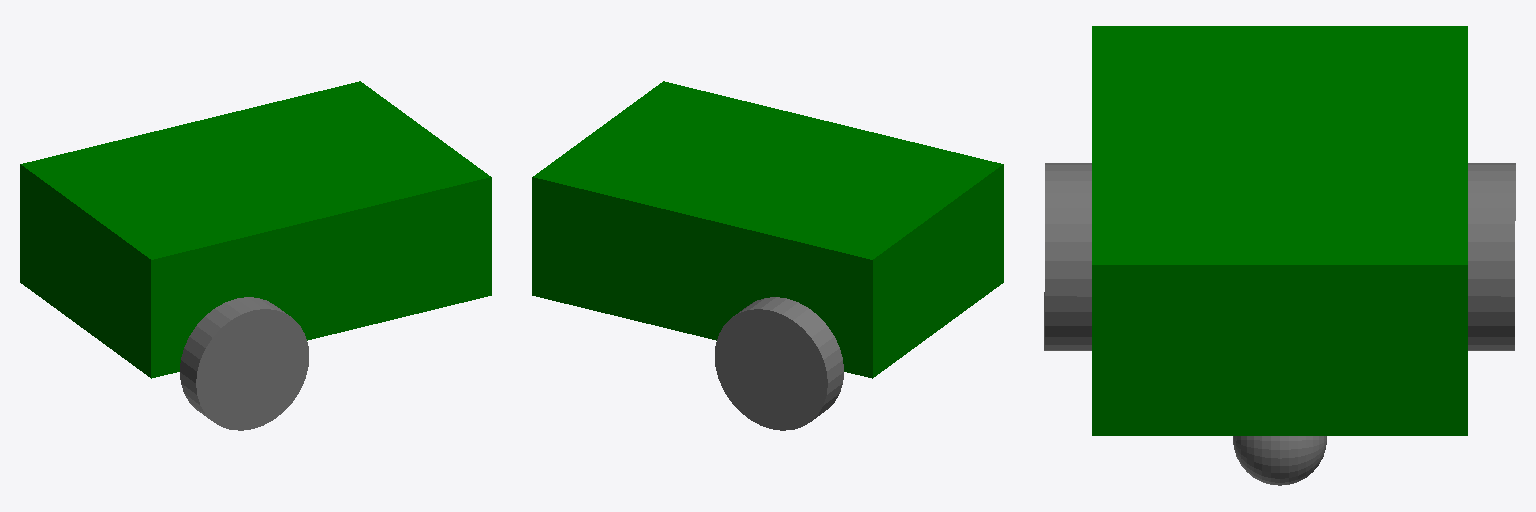
The robot description file, URDF, robot "my_robot":
<?xml version ="1.0"?> 
<robot name="my_robot">

    <material name="green">
        <color rgba="0 0.5 0 1"/>
    </material>

    <material name="grey">
        <color rgba="0.5 0.5 0.5 1" />
    </material>

    <link name ="base_link">
        <visual>
            <geometry>
                <box size="0.6 0.4 0.2"/>
            </geometry>
            <origin xyz="0 0 0.1" rpy="0 0 0"/>
            <material name="green"/>
        </visual>
    </link>

    <link name="right_wheel_link">
        <visual>
            <geometry>
                <cylinder radius="0.1" length="0.05"/>
            </geometry>
            <origin xyz="0 0 0" rpy="1.57 0 0"/>
            <material name="grey"/>
        </visual>
    </link>

    <joint name="base_right_wheel_joint" type="continuous">
        <parent link="base_link"/>
        <child link="right_wheel_link"/>
        <origin xyz="-0.15 -0.225 0" rpy="0 0 0"/>
        <axis xyz="0 1 0"/>
    </joint>

    <link name="left_wheel_link">
        <visual>
            <geometry>
                <cylinder radius="0.1" length="0.05"/>
            </geometry>
            <origin xyz="0 0 0" rpy="1.57 0 0"/>
            <material name="grey"/>
        </visual>
    </link>

    <joint name="base_left_wheel_joint" type="continuous">
        <parent link="base_link"/>
        <child link="left_wheel_link"/>
        <origin xyz="-0.15 0.225 0" rpy="0 0 0"/>
        <axis xyz="0 1 0"/>
    </joint>

    <link name="caster_wheel_link">
        <visual>
            <geometry>
                <sphere radius="0.05"/>
            </geometry>
            <origin xyz="0 0 0" rpy="1.57 0 0"/>
            <material name="grey"/>
        </visual>
    </link>

    <joint name="base_caster_wheel_joint" type="fixed">
        <parent link="base_link"/>
        <child link="caster_wheel_link"/>
        <origin xyz="0.2 0 -0.05" rpy="0 0 0"/>
    </joint>

    <link name="base_footprint"/>

    <joint name="base_base_footprint_joint" type="fixed">
        <parent link="base_footprint"/>
        <child link="base_link"/>
        <origin xyz="0 0 0.1" rpy="0 0 0"/>
    </joint>
</robot>

--- What the picture shows (computed from the rendered views, not written in the file) ---
3 views of the same robot in one strip: view 1: azimuth 30°, elevation 25°; view 2: azimuth 150°, elevation 25°; view 3: azimuth 270°, elevation 25° (orthographic).
Robot: my_robot — 5 links, 4 joints (2 continuous, 2 fixed); root link base_footprint; default pose: all joints at 0.
Links seen in each view (by area): view 1: base_link, right_wheel_link; view 2: base_link, left_wheel_link; view 3: base_link, right_wheel_link, left_wheel_link, caster_wheel_link.
Link boxes in pixels (x1,y1,x2,y2): base_link: [20, 81, 491, 378]; right_wheel_link: [180, 297, 308, 430]; base_link: [532, 81, 1003, 378]; left_wheel_link: [715, 297, 843, 430]; base_link: [1092, 26, 1467, 435]; right_wheel_link: [1044, 163, 1091, 350]; left_wheel_link: [1468, 163, 1515, 350]; caster_wheel_link: [1233, 436, 1326, 485].
Bounding box of the posed robot: 0.6 × 0.5002 × 0.3 m (x, y, z).
Geometry: primitives only (box / cylinder / sphere), no mesh files.